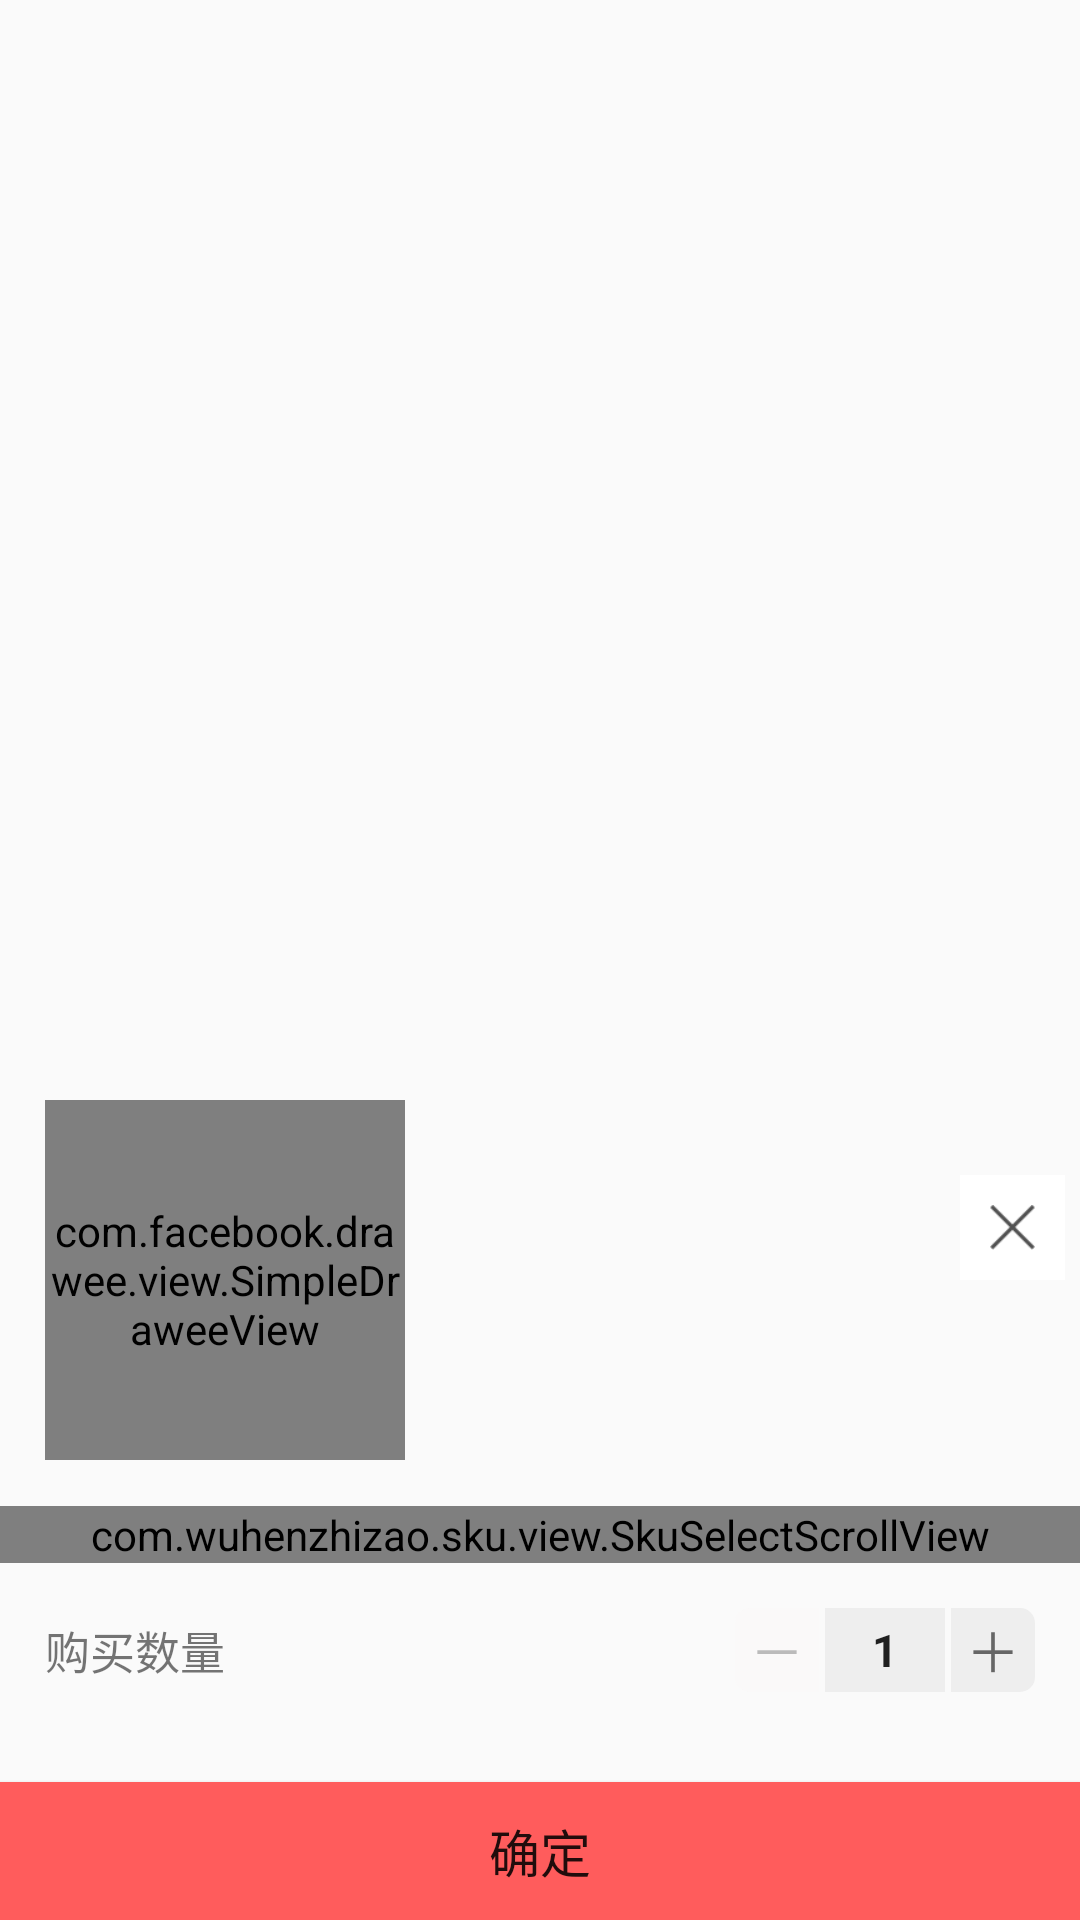

Icon click points for this 1080px x 1920px phone screenshot, format (x,y):
comm close: (1012,1227)
